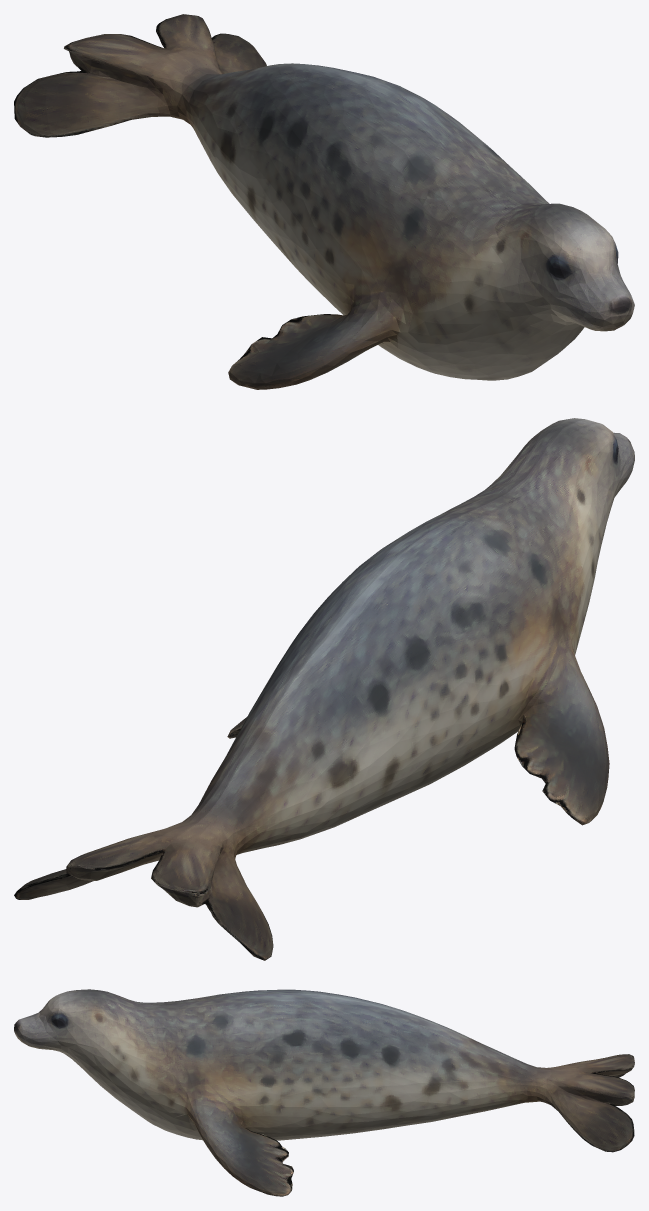
File: seal.glb
3 renders of one model, top to bottom at view 1: azimuth 30°, elevation 25°; view 2: azimuth 150°, elevation 25°; view 3: azimuth 270°, elevation 25°, orthographic. The views are drawn at different scales.
Parts seen in each view (by area): view 1: geometry_0; view 2: geometry_0; view 3: geometry_0.
Boxes of the visible parts, bbox=[...] form: geometry_0: bbox=[14, 14, 634, 389]; geometry_0: bbox=[14, 418, 634, 960]; geometry_0: bbox=[14, 989, 634, 1196].
Bounding box in the file's own units: 0.4187 × 0.2665 × 0.9947.
Materials: 1 (1 with a texture image).
